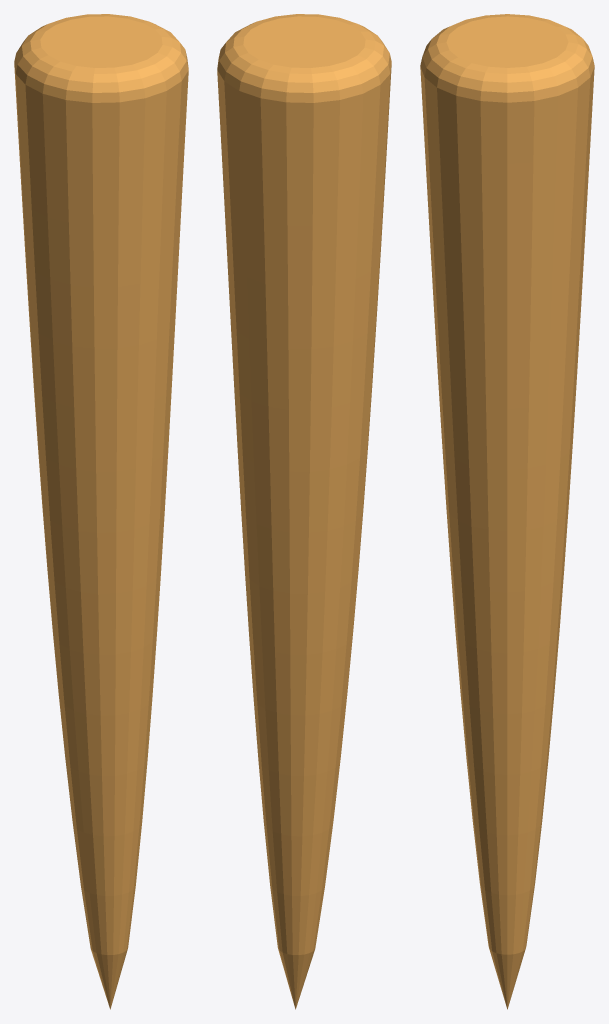
The model's file is carrot_v04.glb.
3 views of the same model, side by side, from view 1: azimuth 30°, elevation 25°; view 2: azimuth 150°, elevation 25°; view 3: azimuth 270°, elevation 25° (orthographic).
Parts seen in each view (by area): view 1: root; view 2: root; view 3: root.
Boxes of the visible parts, x1=… form: root: x1=14, y1=14, x2=188, y2=1009; root: x1=217, y1=14, x2=391, y2=1009; root: x1=420, y1=14, x2=594, y2=1009.
Size of the model in its own units: 0.0265 by 0.1618 by 0.0265.
